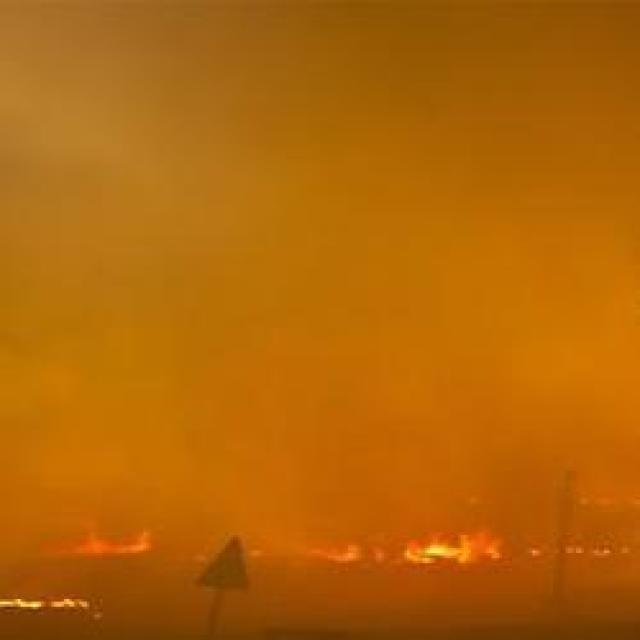Fire: (16, 461, 578, 581)
Smoke: (33, 62, 610, 414)
